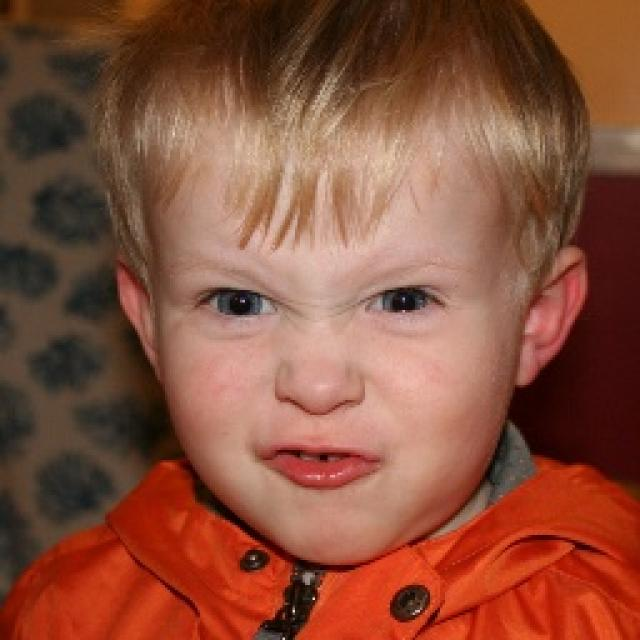earlobe: (513, 344, 549, 388)
eye: (194, 283, 280, 322), (359, 285, 449, 316)
nose: (274, 392, 369, 438)
wholeear: (512, 245, 588, 388), (113, 254, 159, 380)
